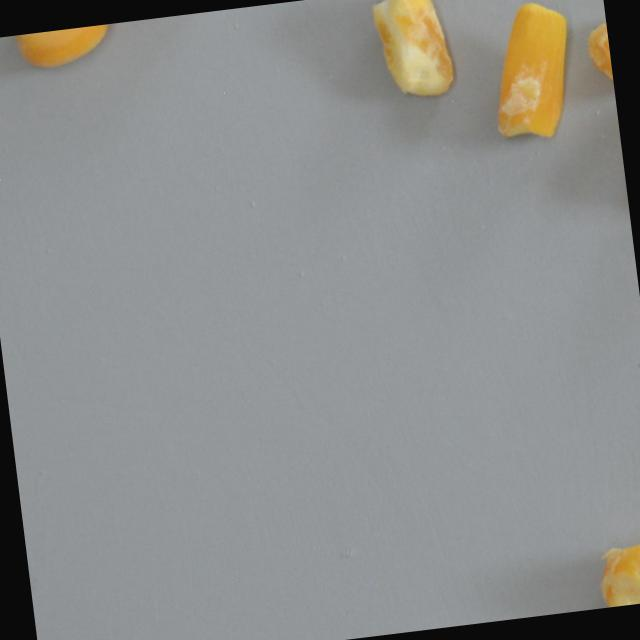dañado: (477, 0, 582, 149), (366, 0, 459, 106), (6, 24, 113, 74), (590, 537, 640, 608), (579, 12, 615, 102)
